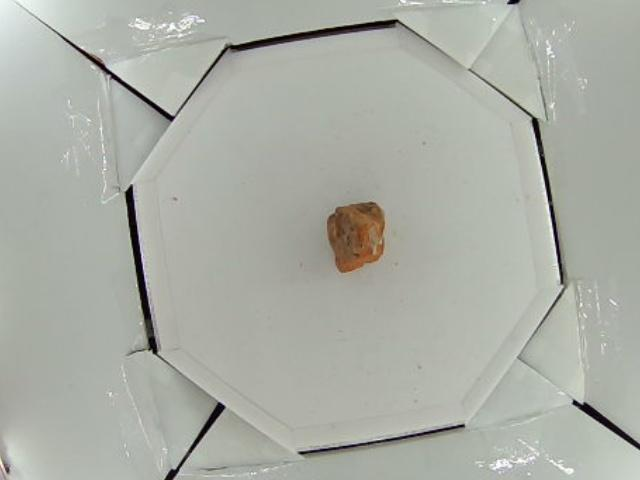Brisk: (330, 202, 385, 273)
